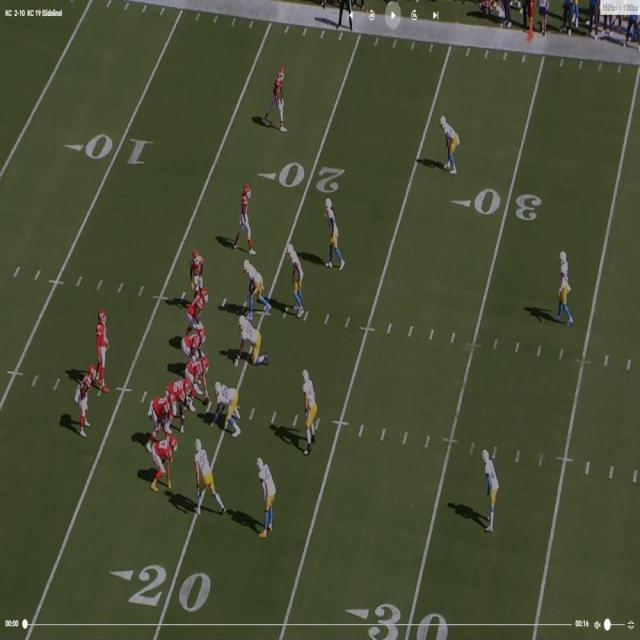center: (193, 358, 214, 405)
db: (325, 201, 341, 271), (484, 449, 496, 528), (557, 246, 569, 321), (444, 114, 459, 170)
lb: (241, 260, 267, 315), (301, 368, 316, 454), (260, 459, 276, 530), (287, 244, 303, 310)
qb: (98, 313, 111, 394)
skill: (153, 432, 173, 490), (78, 371, 94, 438), (239, 183, 254, 248), (275, 68, 291, 127), (190, 249, 202, 287)
